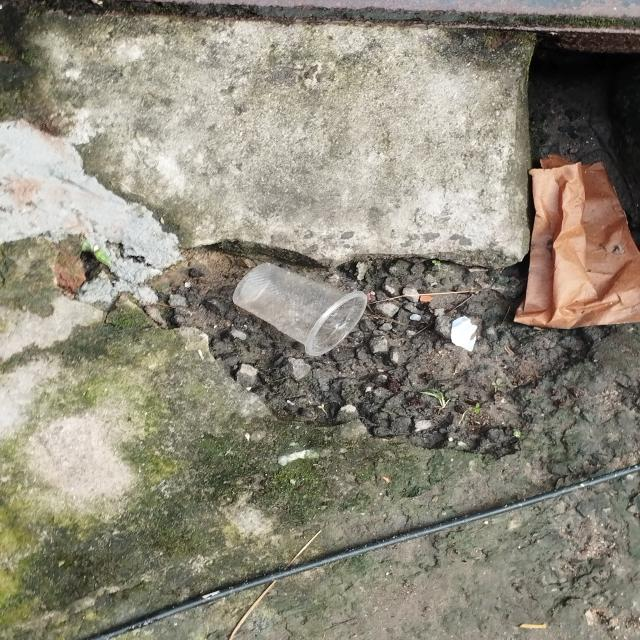paper: (514, 153, 640, 331)
plastic: (231, 261, 370, 357)
